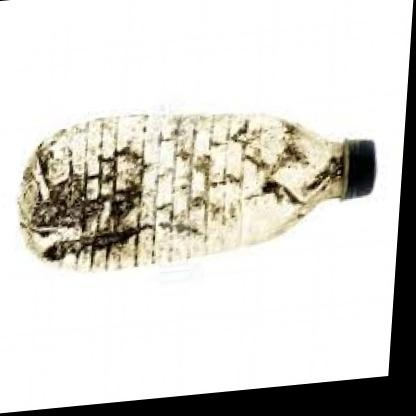trash: (19, 114, 374, 268)
